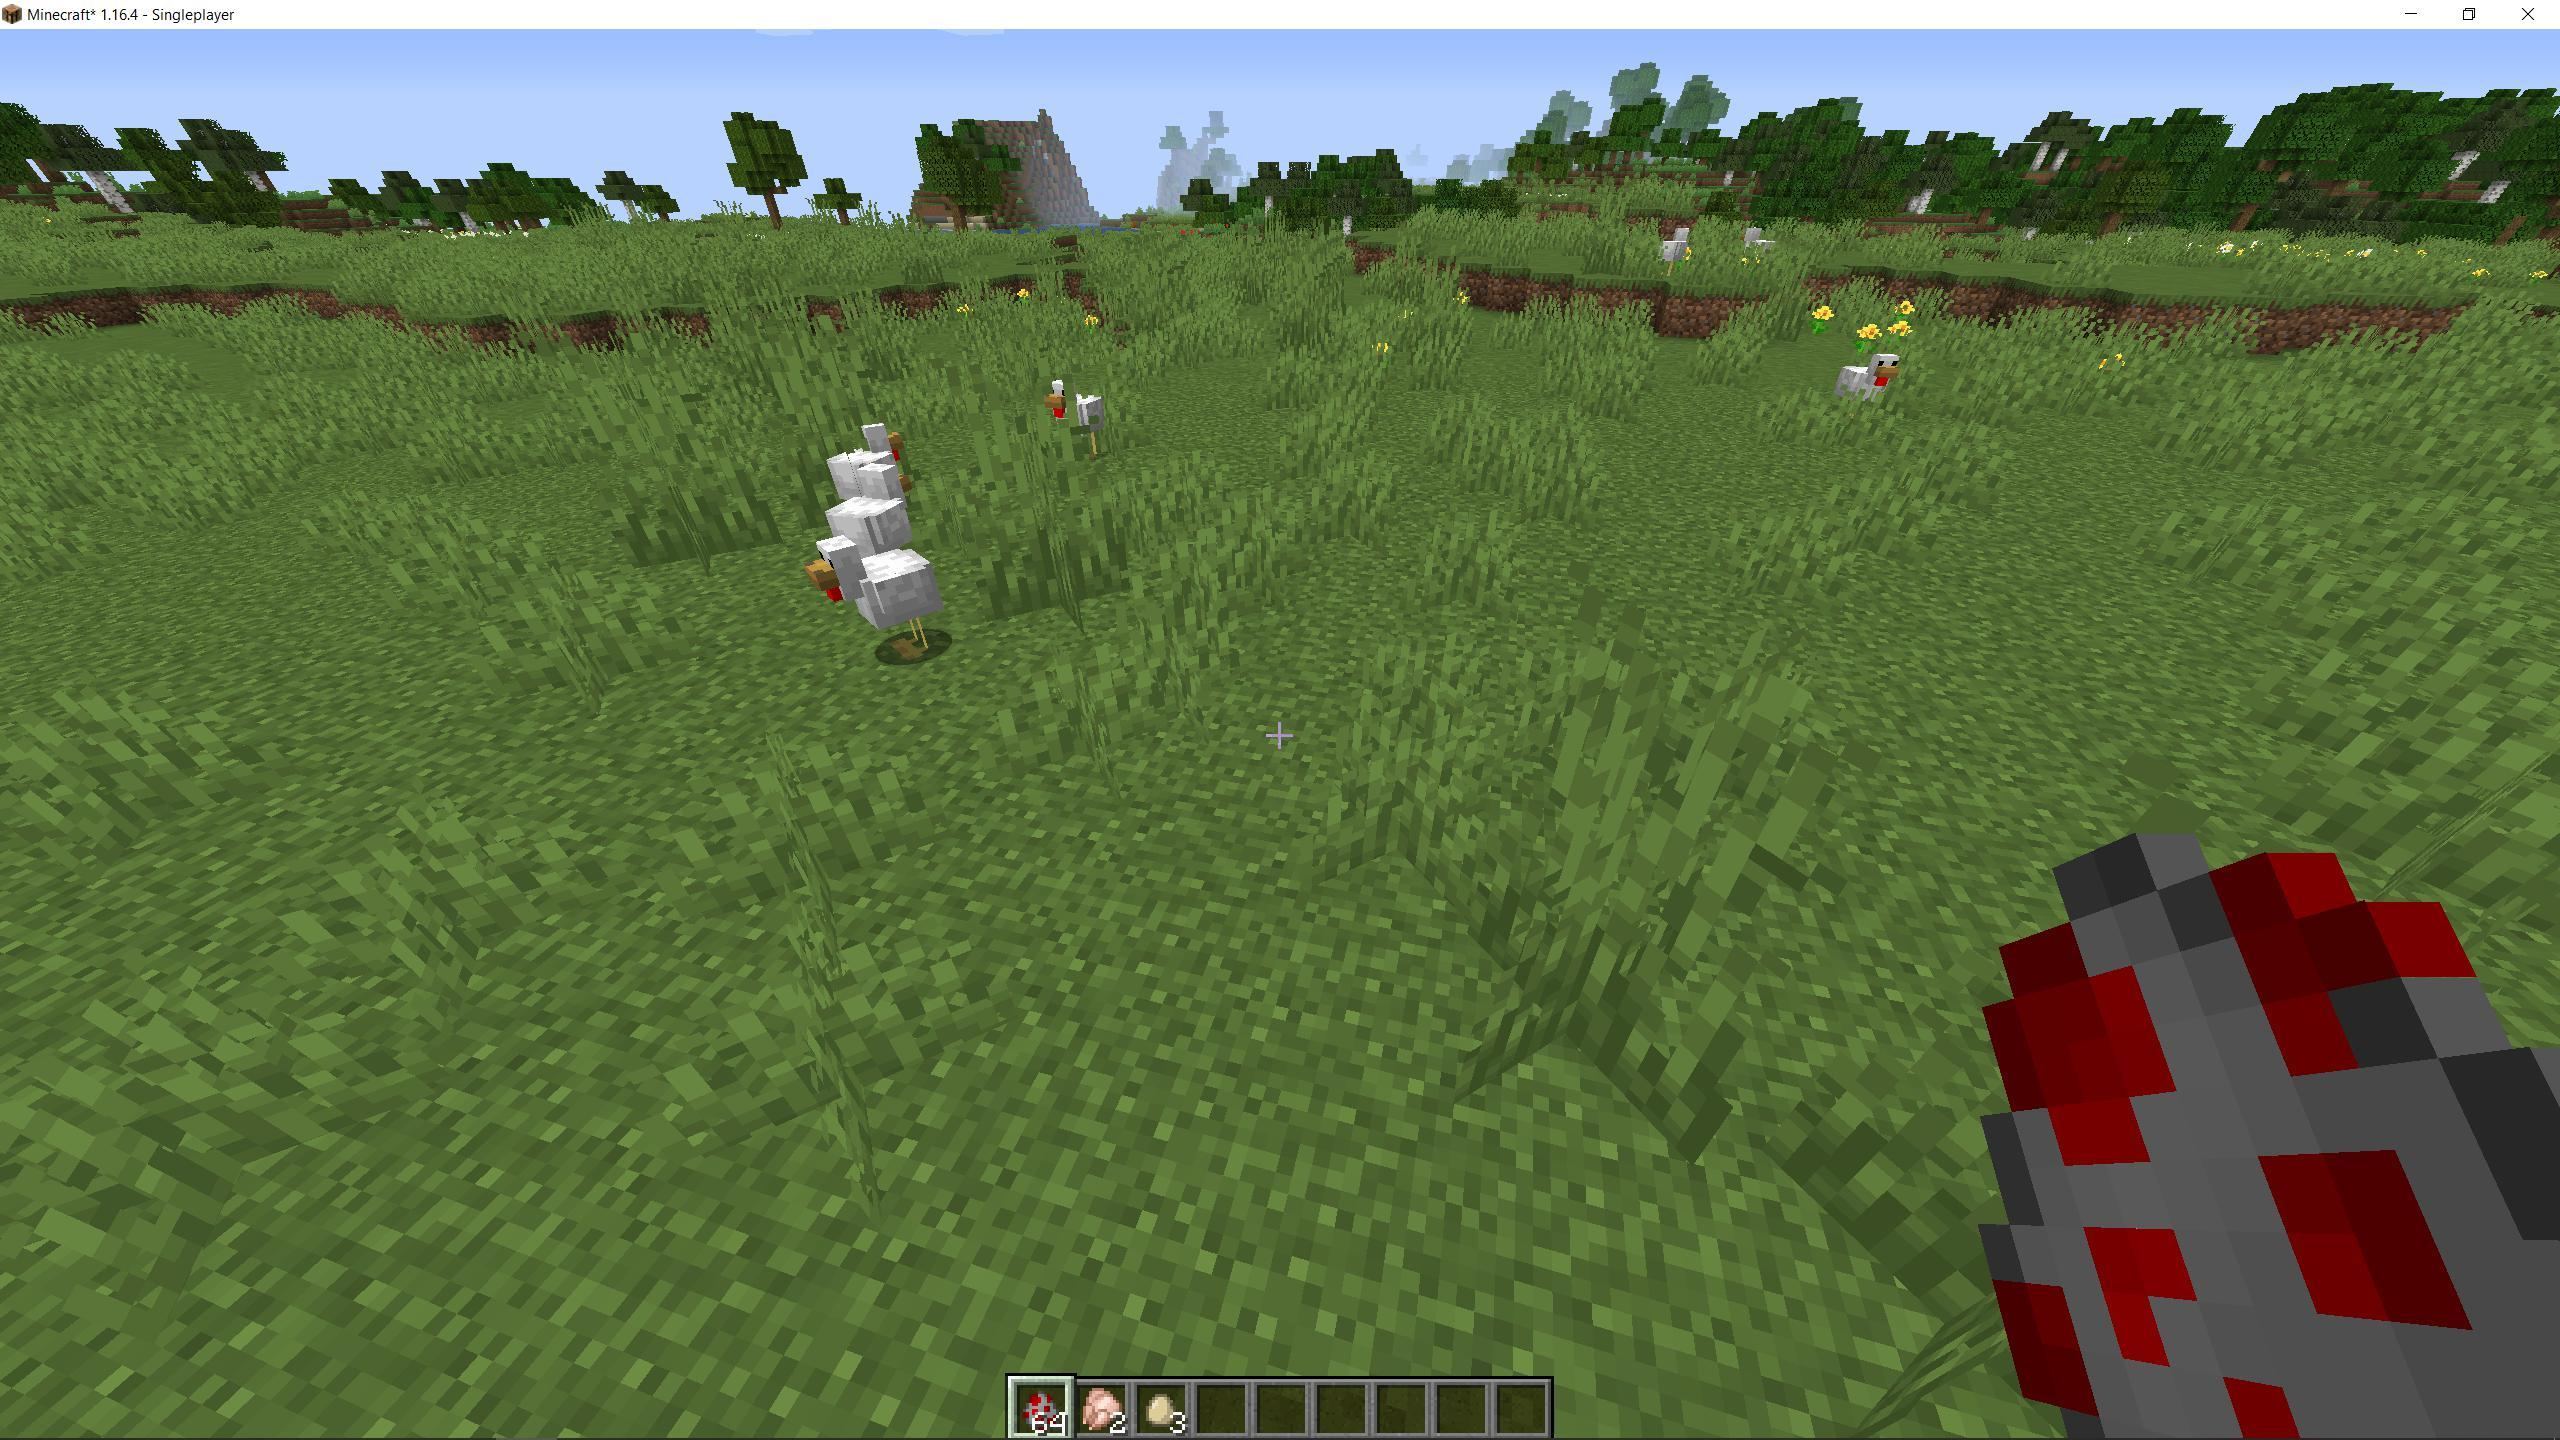chicken: (818, 543, 953, 659), (821, 469, 913, 550), (1832, 339, 1904, 431), (1043, 376, 1125, 455), (825, 424, 893, 489), (1660, 223, 1700, 281)
